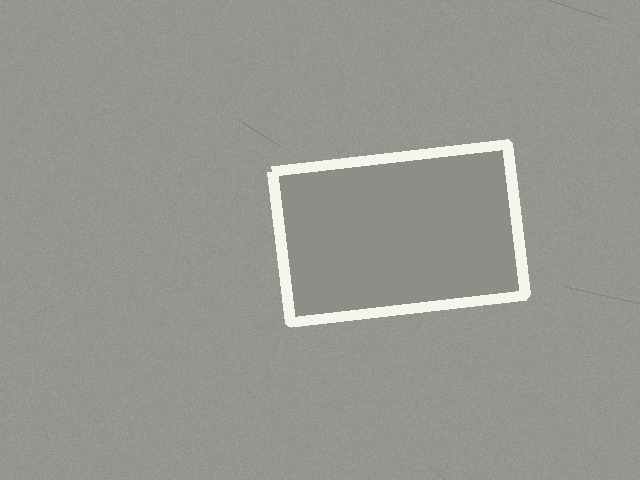parking_area: (272, 144, 525, 322)
